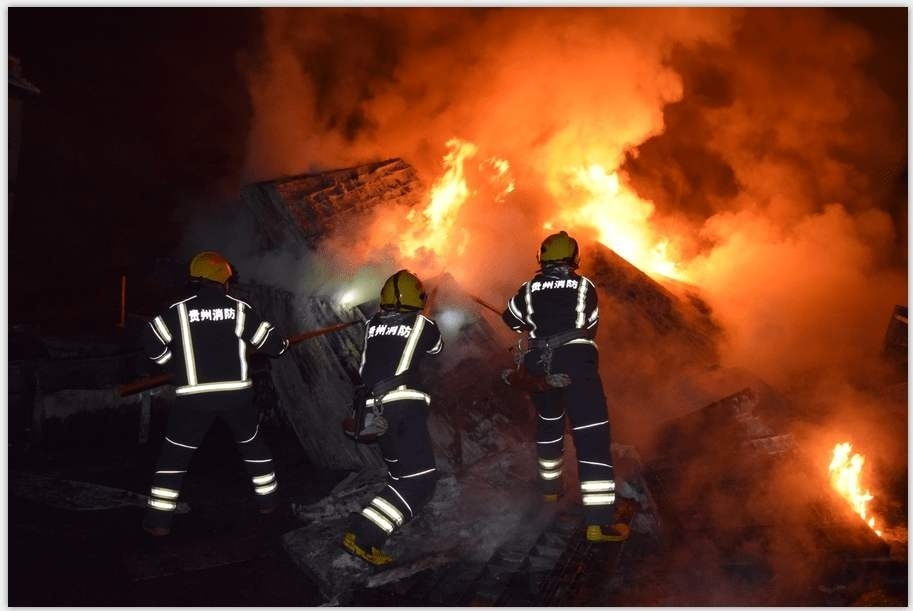fire: (387, 136, 515, 259), (821, 437, 888, 542)
